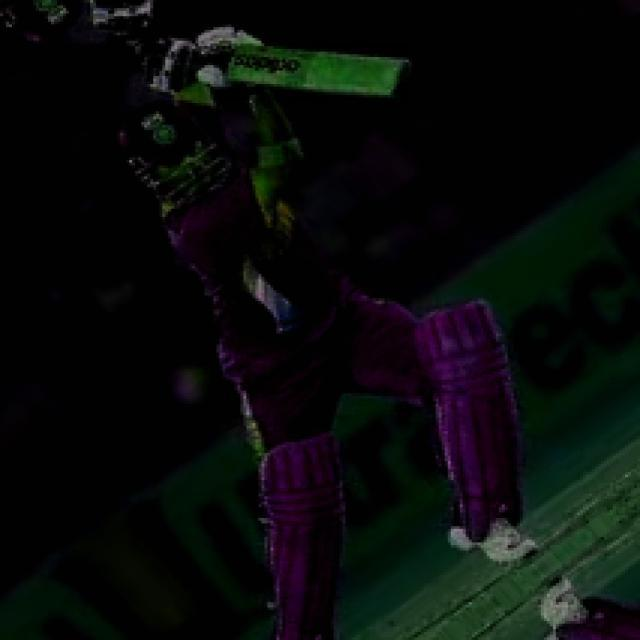bat: (218, 49, 402, 100)
toe: (361, 69, 437, 97)
